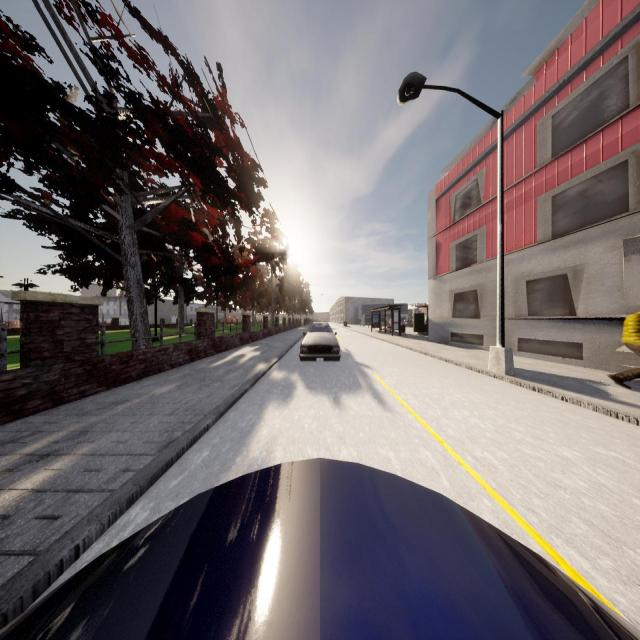Pedestrian: (609, 305, 640, 397)
Vehicle: (1, 456, 640, 640), (299, 322, 340, 360)
